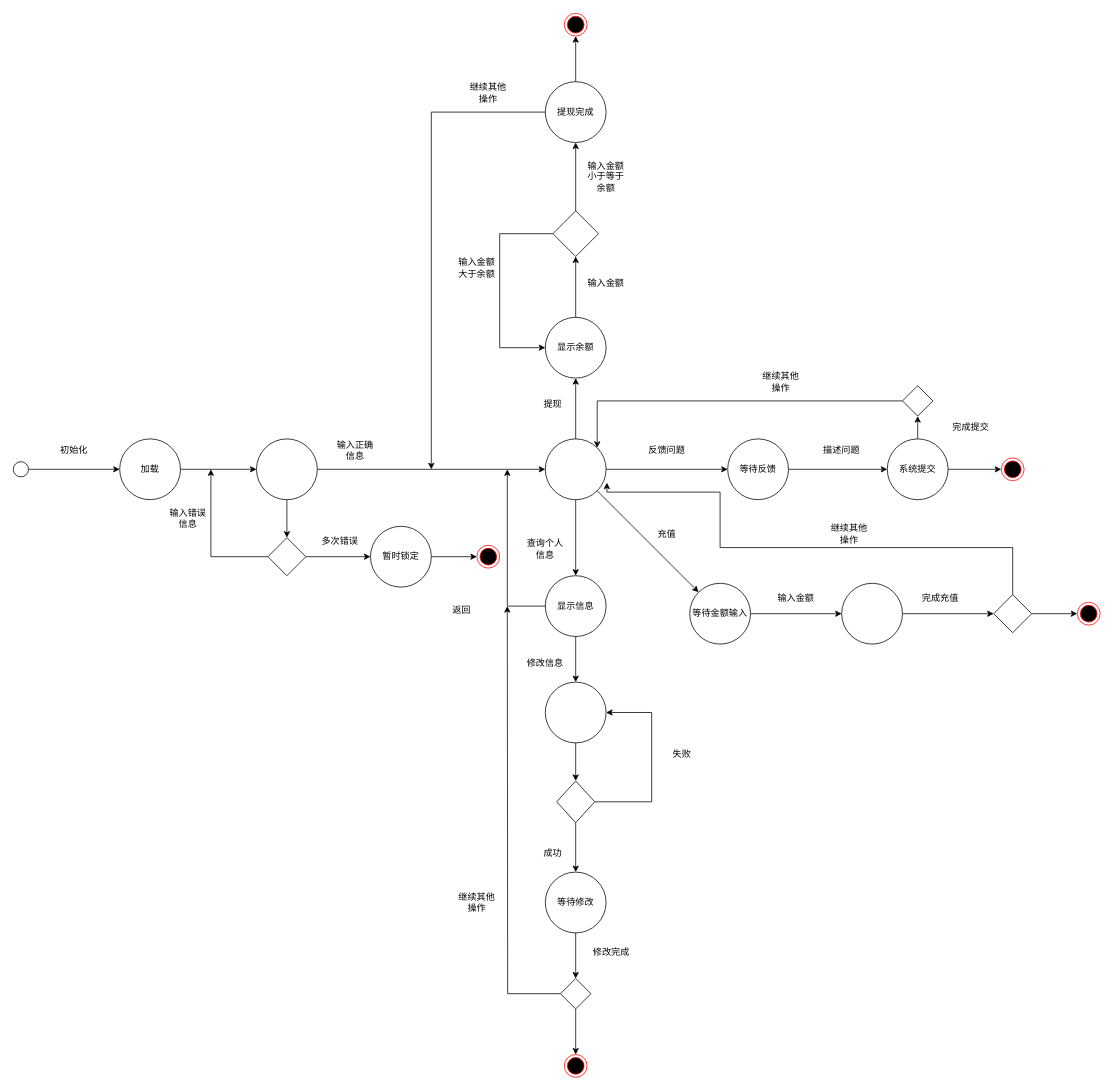
The diagram is 1113 pixels wide and 1091 high, and some of its shapes have lost their labels. Here are the shapes that lost their labels. From the top down, the box of each, then its label:
(256, 438, 317, 500): 等待登录
(545, 438, 606, 500): 就绪
(841, 583, 902, 644): 充值中
(545, 681, 606, 743): 验证身份
